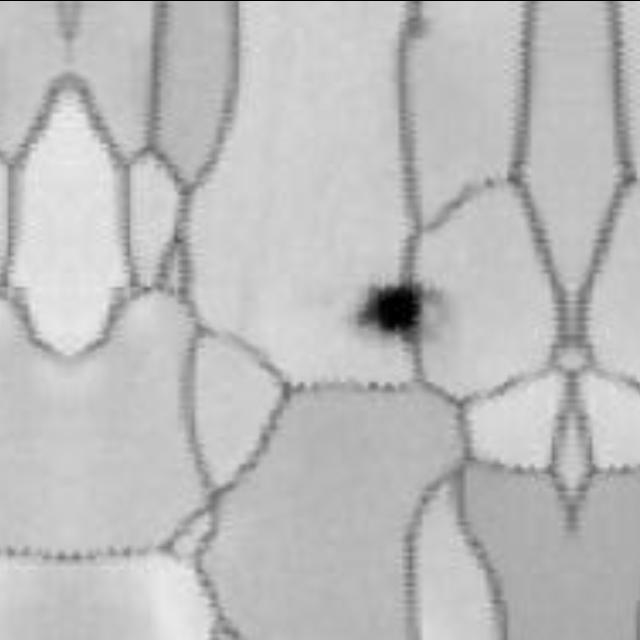good_void: (351, 270, 431, 344)
